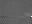person: (25, 15, 31, 20)
